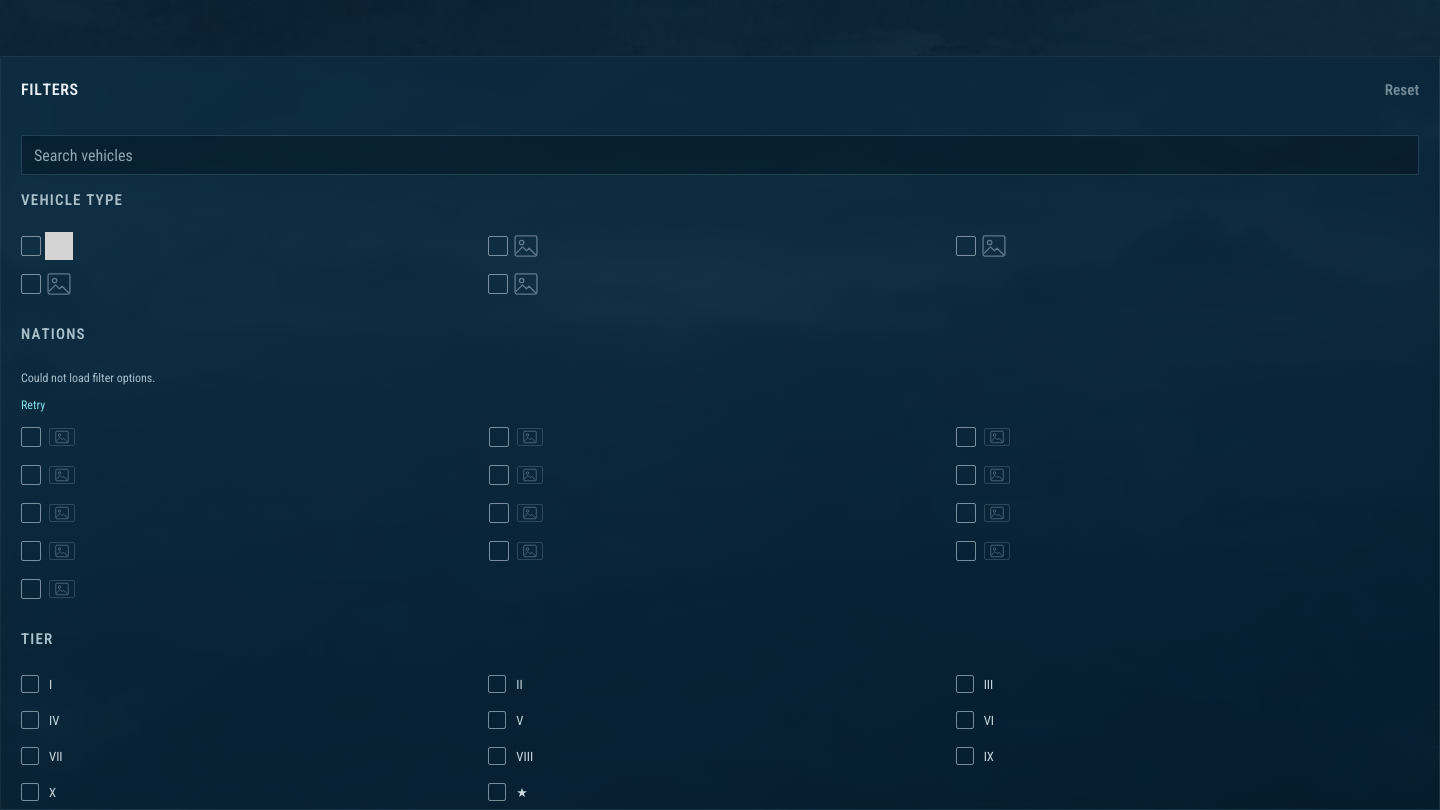
Filters › keeps the hardcoded Nations options visible while retrying a failed source
expect the message reads "Could not load filter options.": met, box [21,371,155,385]
expect the 8th checkbox named "United States" is enabled: met, box [956,427,976,447]
Click the button "Retry" at (33, 405), box [21,393,45,418]
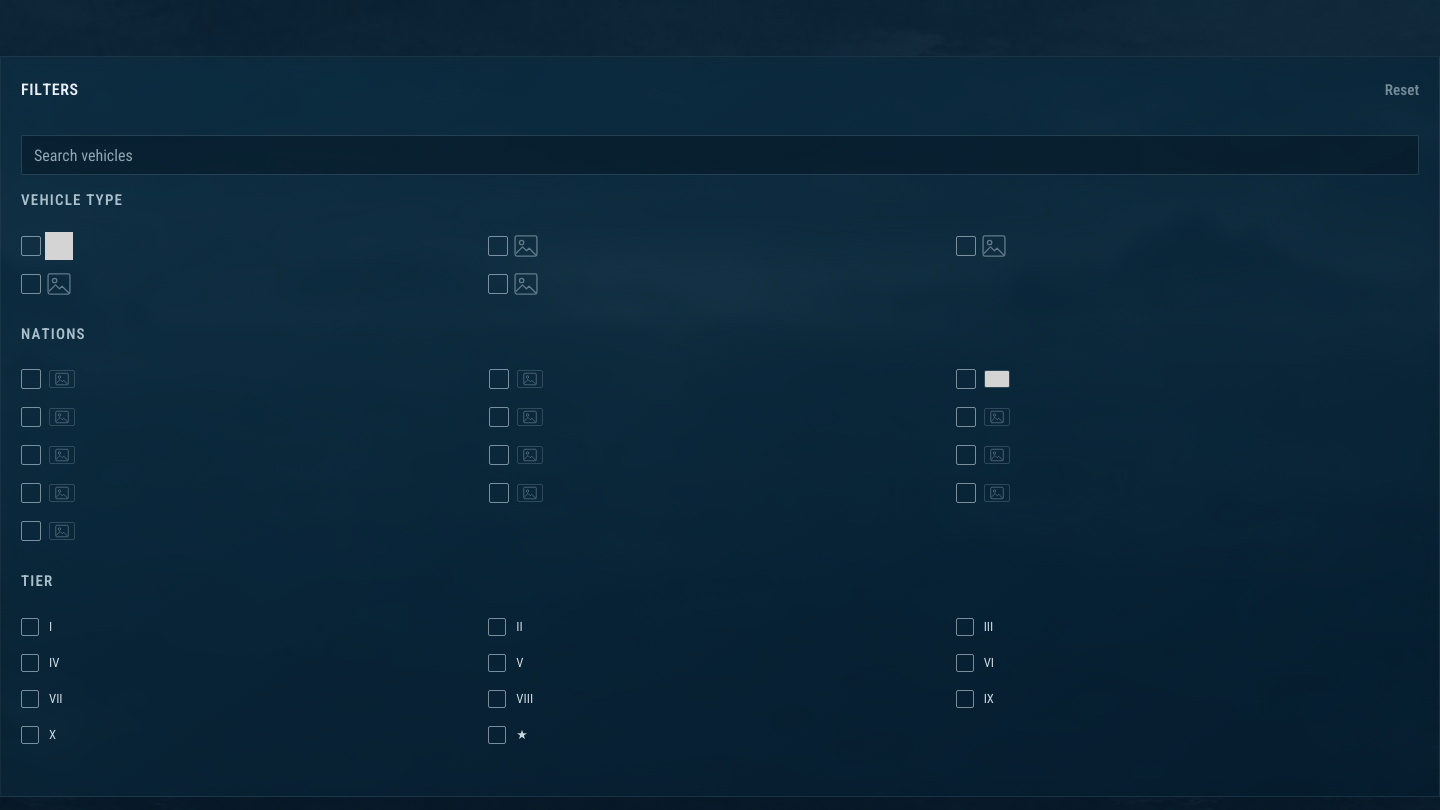
expect the message "Could not load filter options." is gone: met
